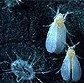whitefly: (46, 7, 72, 56), (55, 39, 82, 82)
